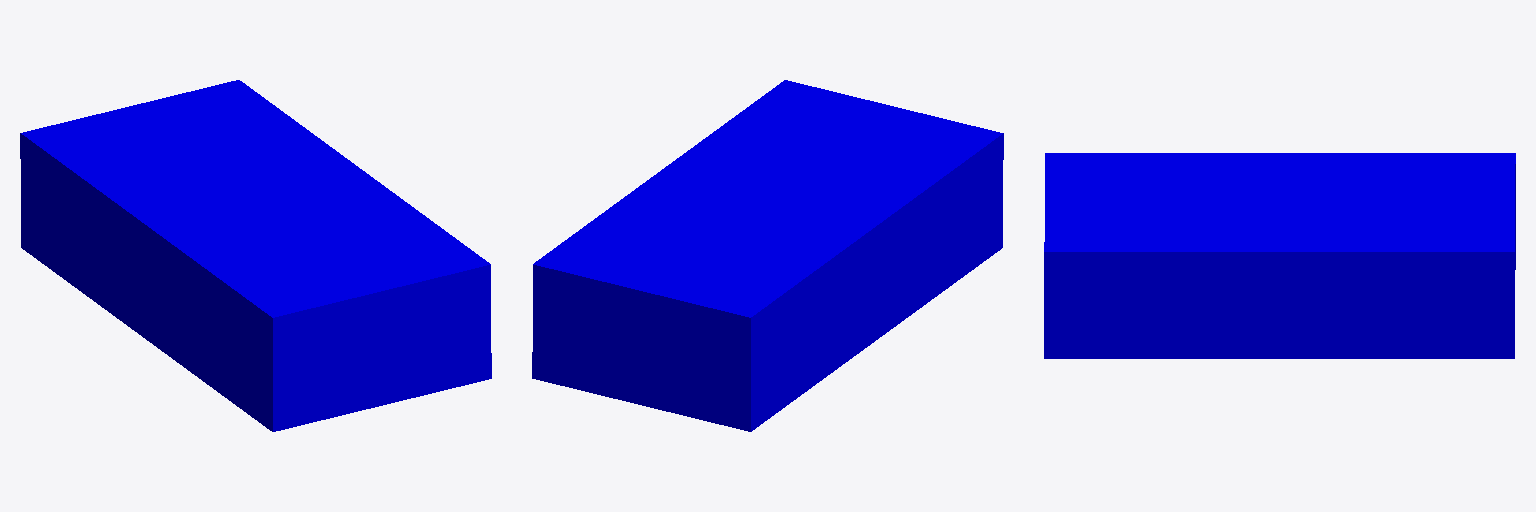
URDF robot description (root):
<?xml version="0.0" ?>
<robot name="root">
  <link name="base">
    <inertial>
      <origin rpy="0 0 0" xyz="0 0 0"/>
      <mass value="0.001"/>
      <inertia ixx="-4.46E-06" ixy="-4.55E-07" ixz="1.95E-06" iyy="-2.47E-06" iyz="8.51E-08" izz="2.17E-06"/>
    </inertial>
    <visual>
      <origin rpy="1.57 0.0 1.57" xyz="0 0 0.0"/>
      <geometry>
        <box size="0.4 0.1 0.2"/>
      </geometry>
      <material name="blue">
      </material> 
    </visual>
    <collision>
      <origin rpy="1.57 0 1.57" xyz="0 0 0.0"/>
      <geometry>
        <box size="0.4 0.1 0.2"/>
      </geometry>
    </collision>
  </link>

  <material name="panda_white">
    <color rgba="1. 1. 1. 1."/>
  </material>
  <material name="red">
    <color rgba="1.0 0. 0. 1.0"/>
  </material>
  <material name="blue">
    <color rgba="0. 0. 1. 1.0"/>
  </material>
  <material name="green">
    <color rgba="0. 1. 0. 1.0"/>
  </material>
  <material name="Yellow">
    <color rgba="0.949 0.878 0.0392 1.0"/>
  </material>
  <material name="Blue">
    <color rgba="0.12156 0.3804 0.6745 1.0"/>
  </material>
  <material name="Red">
    <color rgba="0.9254901 0.243137 0.086274509 1.0"/>
  </material>

</robot>

--- What the picture shows (computed from the rendered views, not written in the file) ---
Views: 3 orthographic renders of the robot side by side, from view 1: azimuth 30°, elevation 25°; view 2: azimuth 150°, elevation 25°; view 3: azimuth 270°, elevation 25°.
Robot: root — 1 links, 0 joints (none); root link base; default pose: all joints at 0.
Visible links, largest first — view 1: base; view 2: base; view 3: base.
Boxes of the visible links, x1,y1,x2,y2 form: base: (20, 80, 491, 431); base: (532, 80, 1003, 431); base: (1044, 153, 1515, 358).
Size in the robot's own frame: 0.2004 by 0.4002 by 0.1002 metres.
Geometry: primitives only (box / cylinder / sphere), no mesh files.